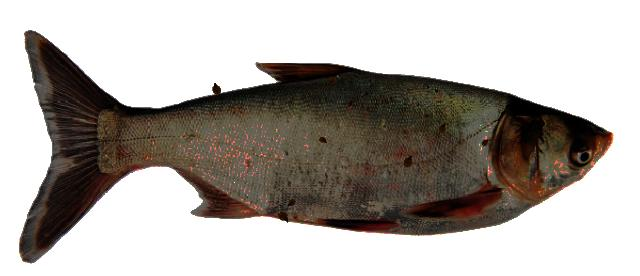Parasitic Disease: (21, 32, 612, 261)
